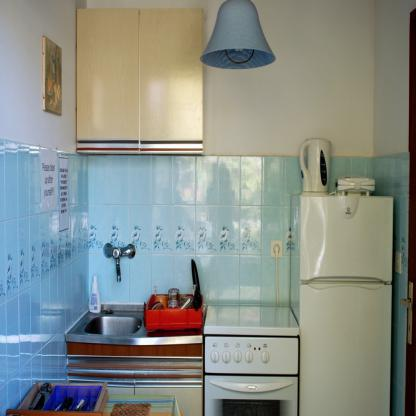door: (405, 7, 415, 415)
lever: (400, 296, 412, 311)
